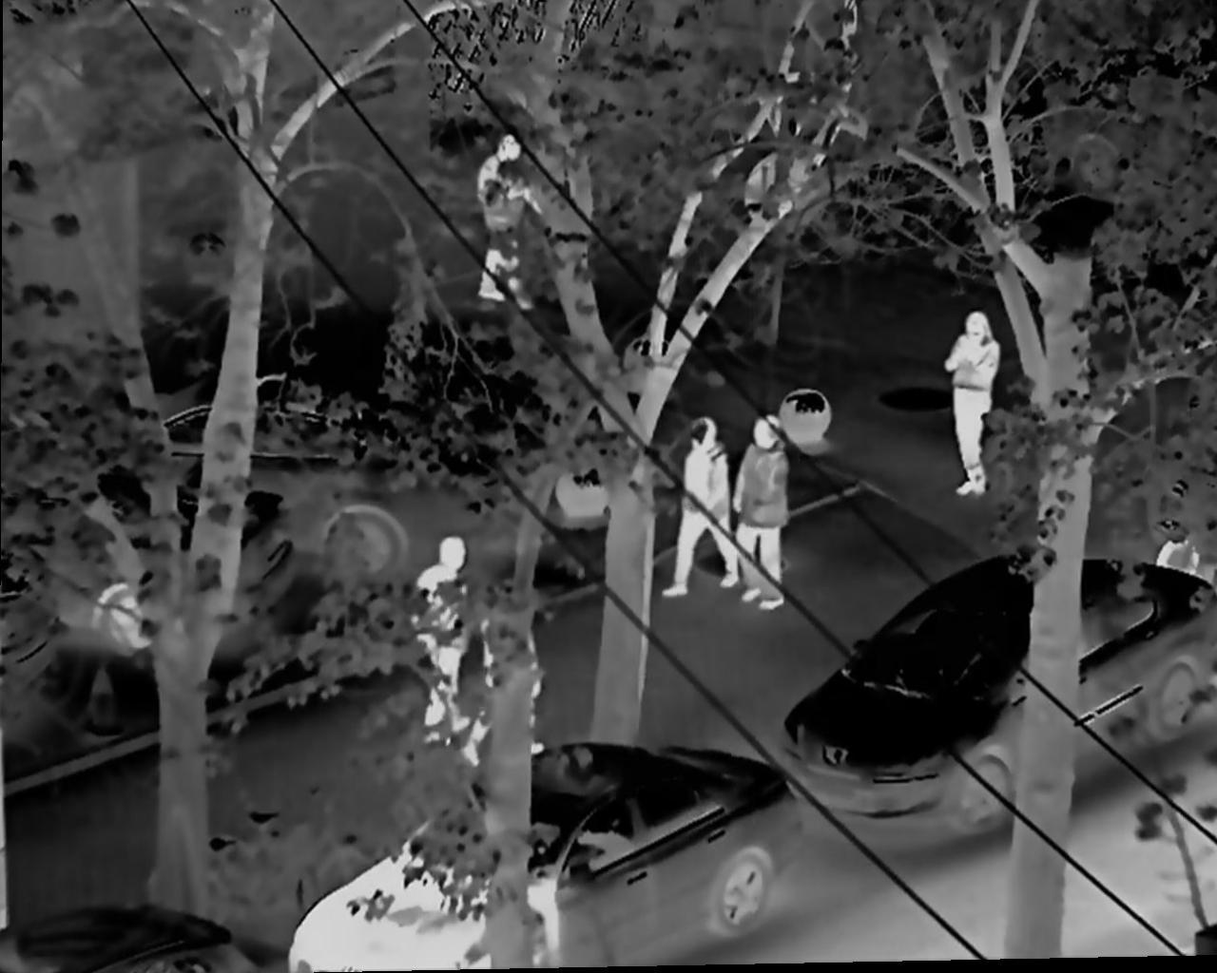person: (458, 587, 547, 785), (468, 127, 552, 320), (665, 419, 744, 595), (732, 417, 798, 616), (407, 531, 465, 743), (939, 310, 995, 494)
